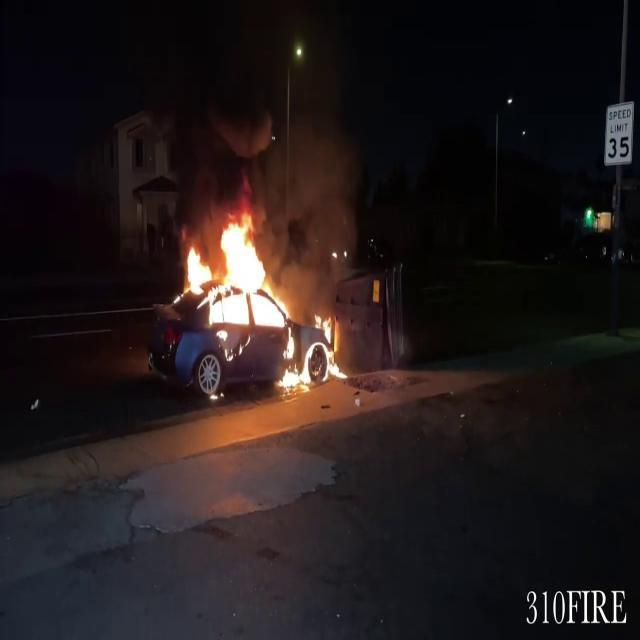Fire: (174, 209, 348, 392)
Smoke: (259, 110, 356, 310)
